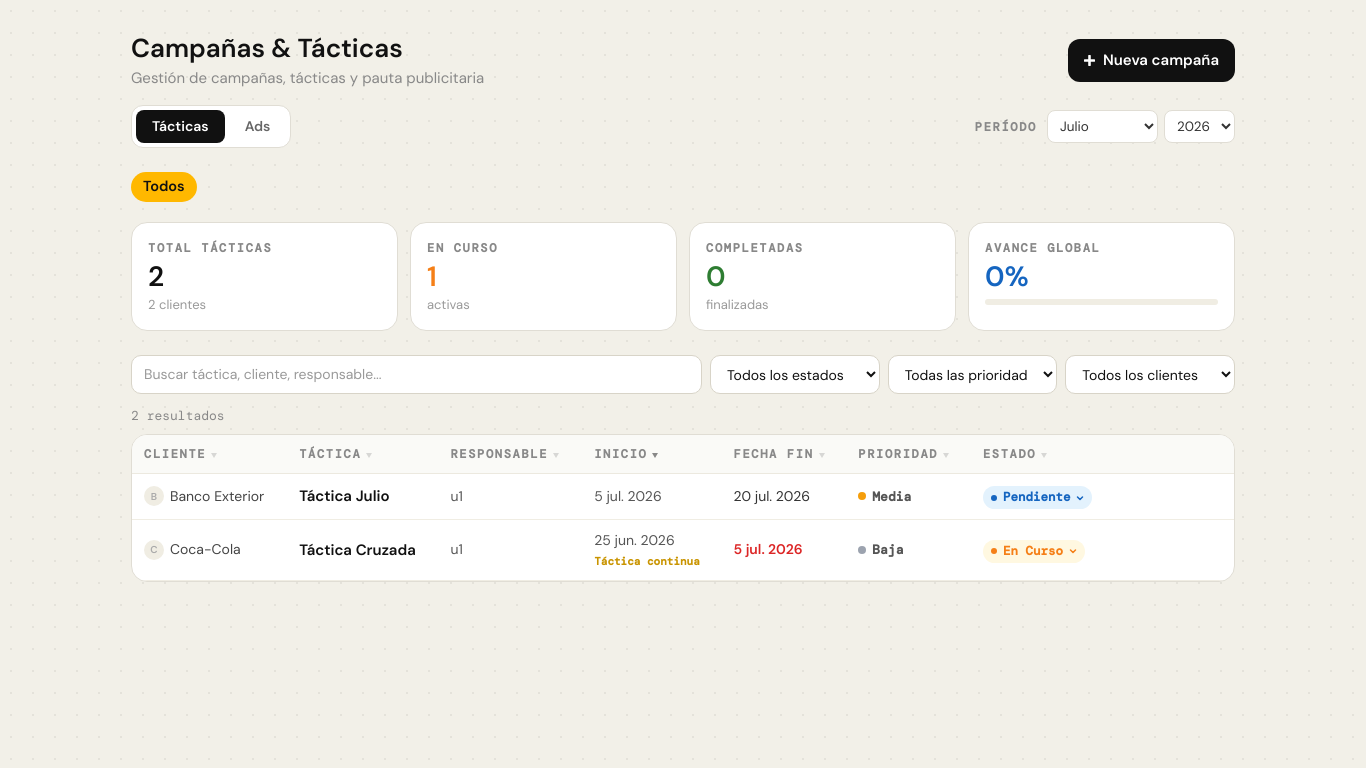
Scenario: AdsPage — tabs Tácticas/Ads › cards de resumen (Tácticas) › clic en "En Curso" filtra la tabla a tácticas En Curso
expect the text "Táctica Julio" is shown: met, box x1=299 y1=486 x2=390 y2=506
expect the text "Táctica Cruzada" is shown: met, box x1=299 y1=540 x2=426 y2=560
Click the text "En Curso": (462, 248) x1=427 y1=240 x2=498 y2=256
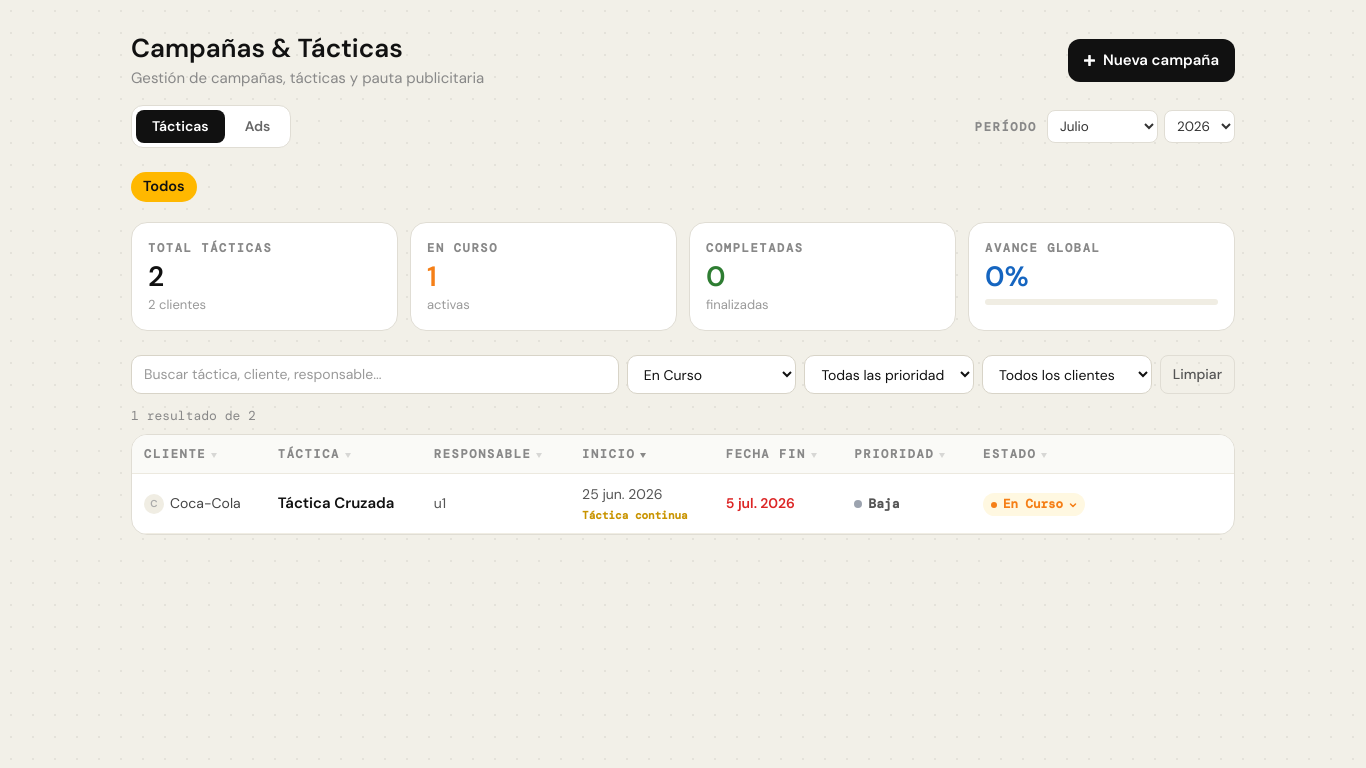
expect the text "Táctica Cruzada" is shown: met, box x1=278 y1=493 x2=410 y2=514
expect the text "Táctica Julio" is gone: met
